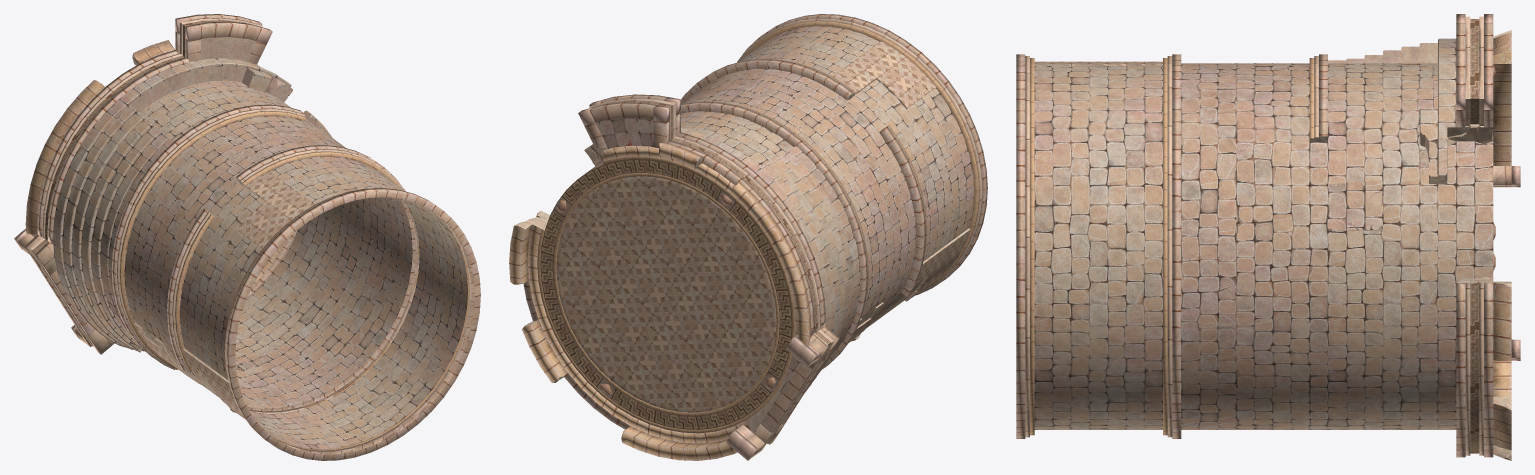
The model's file is Tower000.obj.
The picture shows the model from 3 angles, left to right: view 1: azimuth 30°, elevation 25°; view 2: azimuth 150°, elevation 25°; view 3: azimuth 270°, elevation 25°; orthographic projection. The views are drawn at different scales.
Visible parts, largest first — view 1: pCylinder455__WallBrickBase04, Ashiba01__EdgeStoneBlock02, pCube4758__ReliefStonePattern07, pCylinder455__BlockStoneBase02, pCylinder538__ReliefStoneCross01, EdgeStone01_low3__EdgeStoneBlock03, Ashiba01__ReliefStonePattern01, EdgeStone01_low10__StonePillar00; view 2: pCylinder538__ReliefStoneCross01, pCylinder455__WallBrickBase04, Ashiba01__EdgeStoneBlock02, Ashiba01__ReliefStonePattern01, pCube4758__ReliefStonePattern07, pCylinder521__FloorStoneBase02, EdgeStone01_low10__StonePillar00, pCylinder455__BlockStoneBase02, EdgeStone01_low3__EdgeStoneBlock03; view 3: pCylinder455__WallBrickBase04, Ashiba01__EdgeStoneBlock02, pCube4758__ReliefStonePattern07, pCylinder455__BlockStoneBase02, Ashiba01__ReliefStonePattern01, EdgeStone01_low10__StonePillar00.
Boxes of the visible parts, bbox=[...] form: pCylinder455__WallBrickBase04: bbox=[53, 58, 467, 449]; Ashiba01__EdgeStoneBlock02: bbox=[25, 14, 480, 460]; pCube4758__ReliefStonePattern07: bbox=[119, 111, 469, 450]; pCylinder455__BlockStoneBase02: bbox=[95, 37, 329, 411]; pCylinder538__ReliefStoneCross01: bbox=[134, 172, 314, 419]; EdgeStone01_low3__EdgeStoneBlock03: bbox=[17, 233, 114, 354]; Ashiba01__ReliefStonePattern01: bbox=[33, 20, 246, 252]; EdgeStone01_low10__StonePillar00: bbox=[14, 16, 272, 338]; pCylinder538__ReliefStoneCross01: bbox=[556, 41, 970, 412]; pCylinder455__WallBrickBase04: bbox=[553, 26, 974, 398]; Ashiba01__EdgeStoneBlock02: bbox=[509, 14, 987, 460]; Ashiba01__ReliefStonePattern01: bbox=[540, 101, 830, 429]; pCube4758__ReliefStonePattern07: bbox=[537, 20, 979, 433]; pCylinder521__FloorStoneBase02: bbox=[596, 118, 800, 433]; EdgeStone01_low10__StonePillar00: bbox=[578, 97, 817, 460]; pCylinder455__BlockStoneBase02: bbox=[514, 51, 970, 380]; EdgeStone01_low3__EdgeStoneBlock03: bbox=[736, 326, 839, 457]; pCylinder455__WallBrickBase04: bbox=[1034, 38, 1493, 429]; Ashiba01__EdgeStoneBlock02: bbox=[1016, 16, 1511, 457]; pCube4758__ReliefStonePattern07: bbox=[1030, 58, 1495, 435]; pCylinder455__BlockStoneBase02: bbox=[1034, 30, 1511, 460]; Ashiba01__ReliefStonePattern01: bbox=[1470, 19, 1511, 453]; EdgeStone01_low10__StonePillar00: bbox=[1456, 14, 1520, 360].
Bounding box in the file's own units: 2448 × 2590 × 2750.
Materials: 10 (9 with a texture image).
